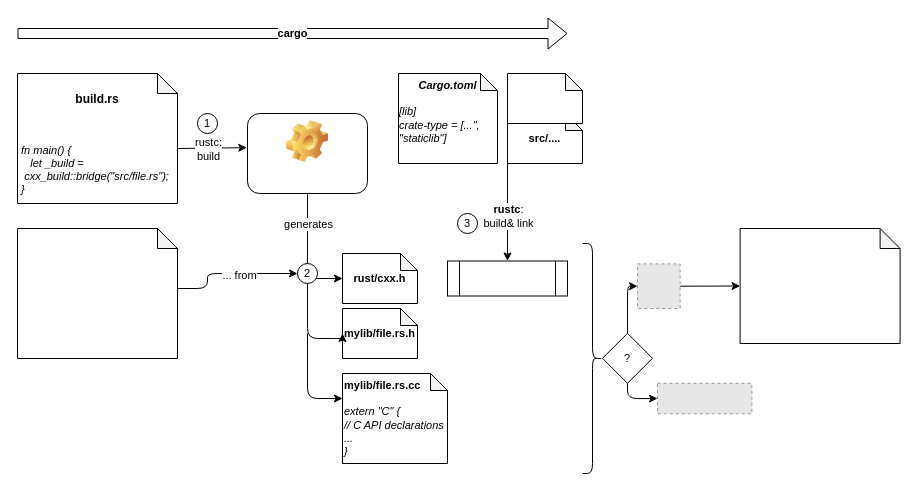
This 918x491 diagram has some shape labels left out. Grey dashed boxes stand in for pictures. Here are the shapes that lost their labels. From the top down, the box of each, then its label:
(506, 72, 582, 124): src/lib.rs
(246, 112, 368, 194): build script executable
(16, 228, 178, 358): src/file.rs #[cxx::bridge] mod ffi { ... }
(446, 260, 568, 296): mylib.a
(739, 228, 900, 344): build.rs fn main() { cxx_build::bridge("src/file.rs") .file(...) .src(...) }
